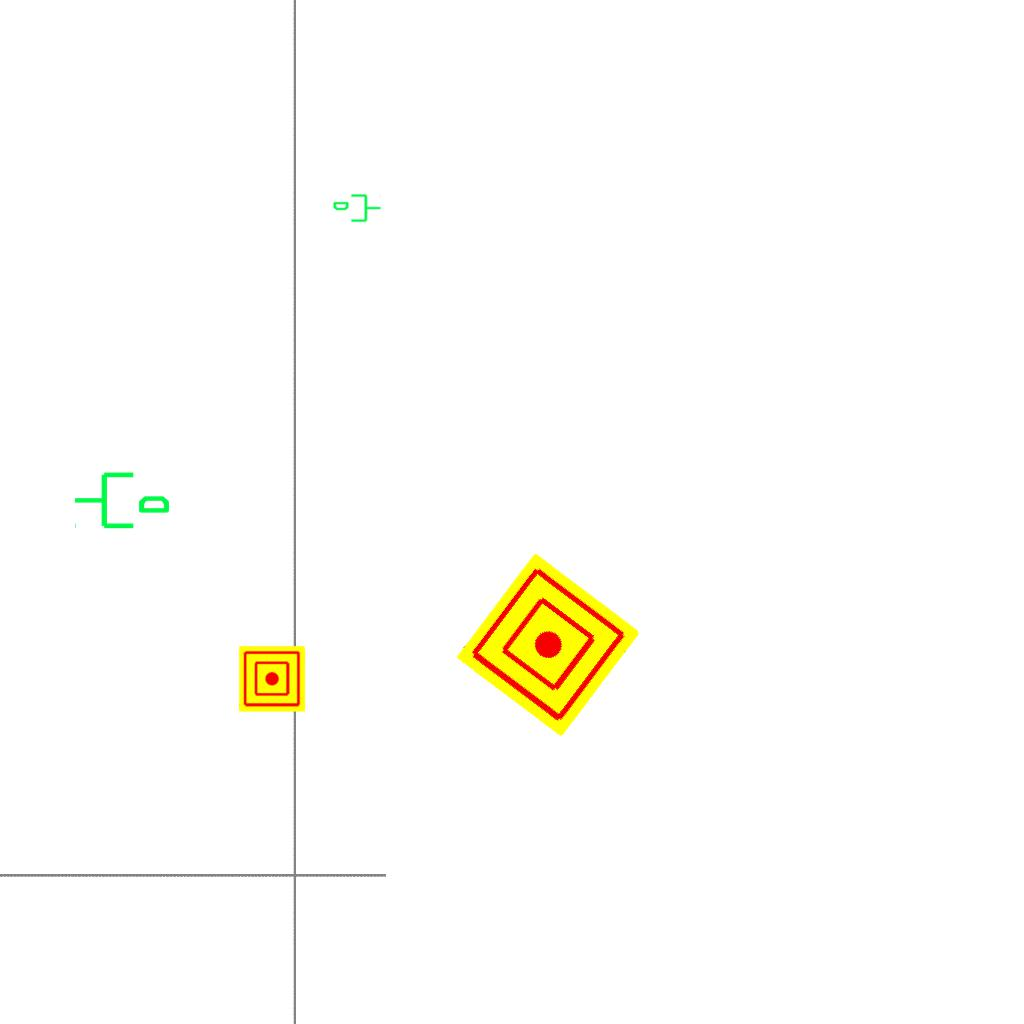Datenanschluss_einfach: (72, 464, 172, 533), (332, 192, 382, 226)
NAM-Nichtautomatischer_Melder: (455, 552, 641, 738), (239, 646, 305, 712)
